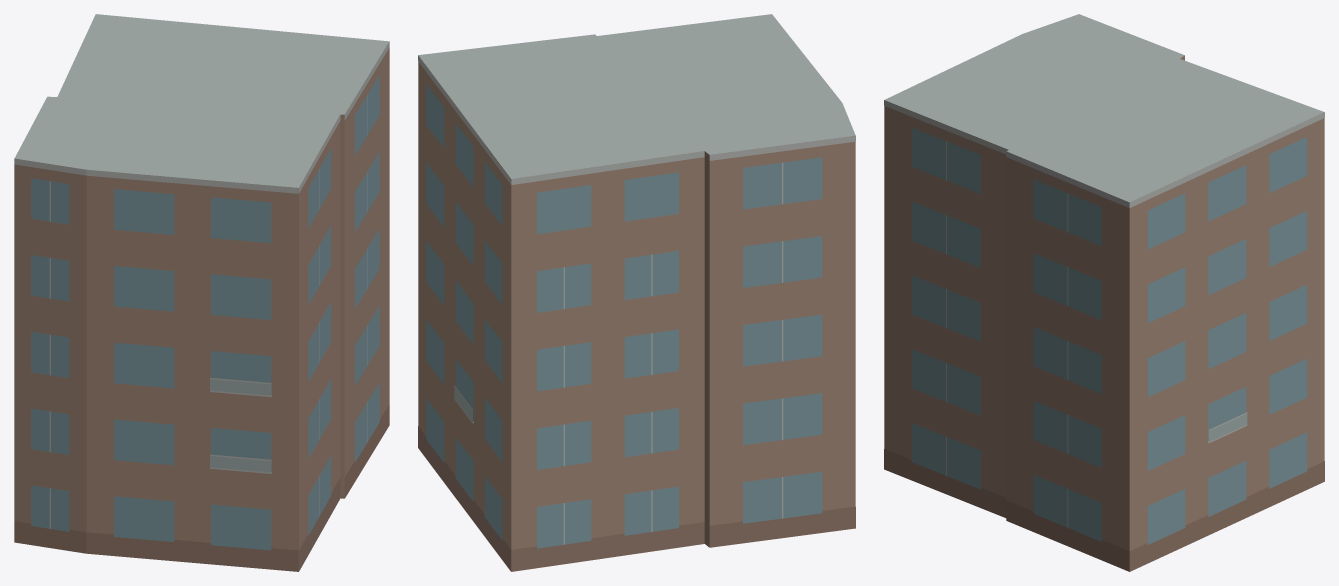
The model's file is survey-upis-32998459.glb.
3 views of the same model, side by side, from view 1: azimuth 30°, elevation 25°; view 2: azimuth 150°, elevation 25°; view 3: azimuth 270°, elevation 25° (orthographic). The views are drawn at different scales.
Parts seen in each view (by area): view 1: survey-upis-32998459.tmp; view 2: survey-upis-32998459.tmp; view 3: survey-upis-32998459.tmp.
Boxes of the visible parts, left/top/right/bottom form: survey-upis-32998459.tmp: left=14, top=14, right=389, bottom=571; survey-upis-32998459.tmp: left=418, top=14, right=855, bottom=571; survey-upis-32998459.tmp: left=884, top=14, right=1324, bottom=571.
Bounding box in the file's own units: 17.3 × 15.8 × 17.09.
